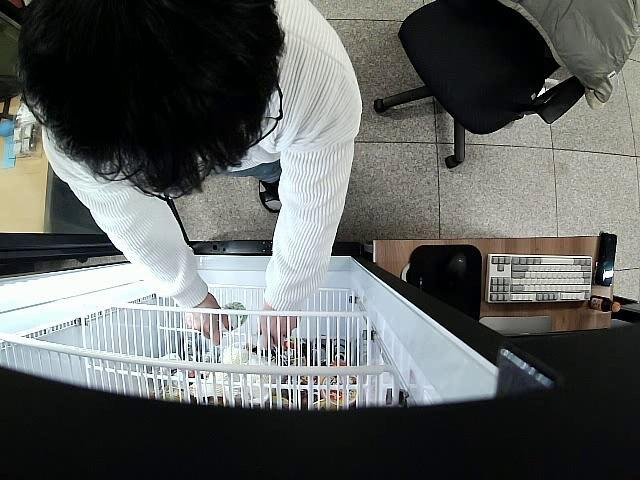18_trevi: (210, 302, 248, 330)
